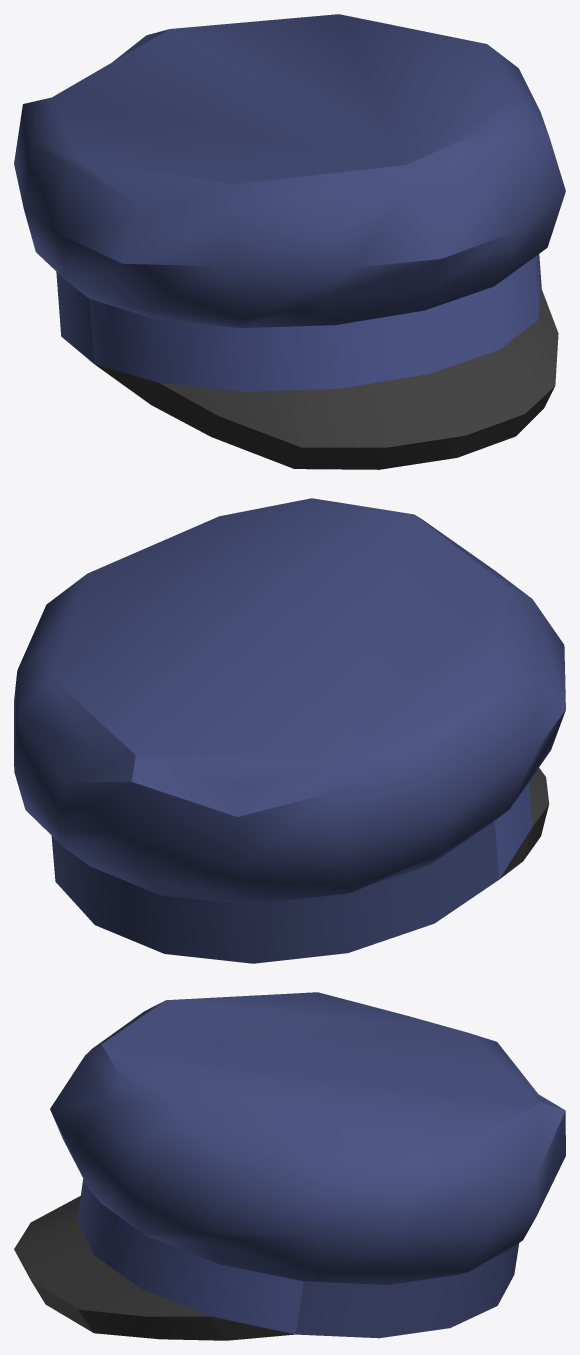
Rendered from 42工程师帽.fbx.
3 views of the same model, one above another, from view 1: azimuth 30°, elevation 25°; view 2: azimuth 150°, elevation 25°; view 3: azimuth 270°, elevation 25° (orthographic). The views are drawn at different scales.
Parts seen in each view (by area): view 1: 42工程师帽; view 2: 42工程师帽; view 3: 42工程师帽.
Boxes of the visible parts, <box> form: 42工程师帽: <box>14,14,565,469</box>; 42工程师帽: <box>14,498,565,963</box>; 42工程师帽: <box>14,992,565,1340</box>.
Bounding box in the file's own units: 0.4755 × 0.2569 × 0.5455.
